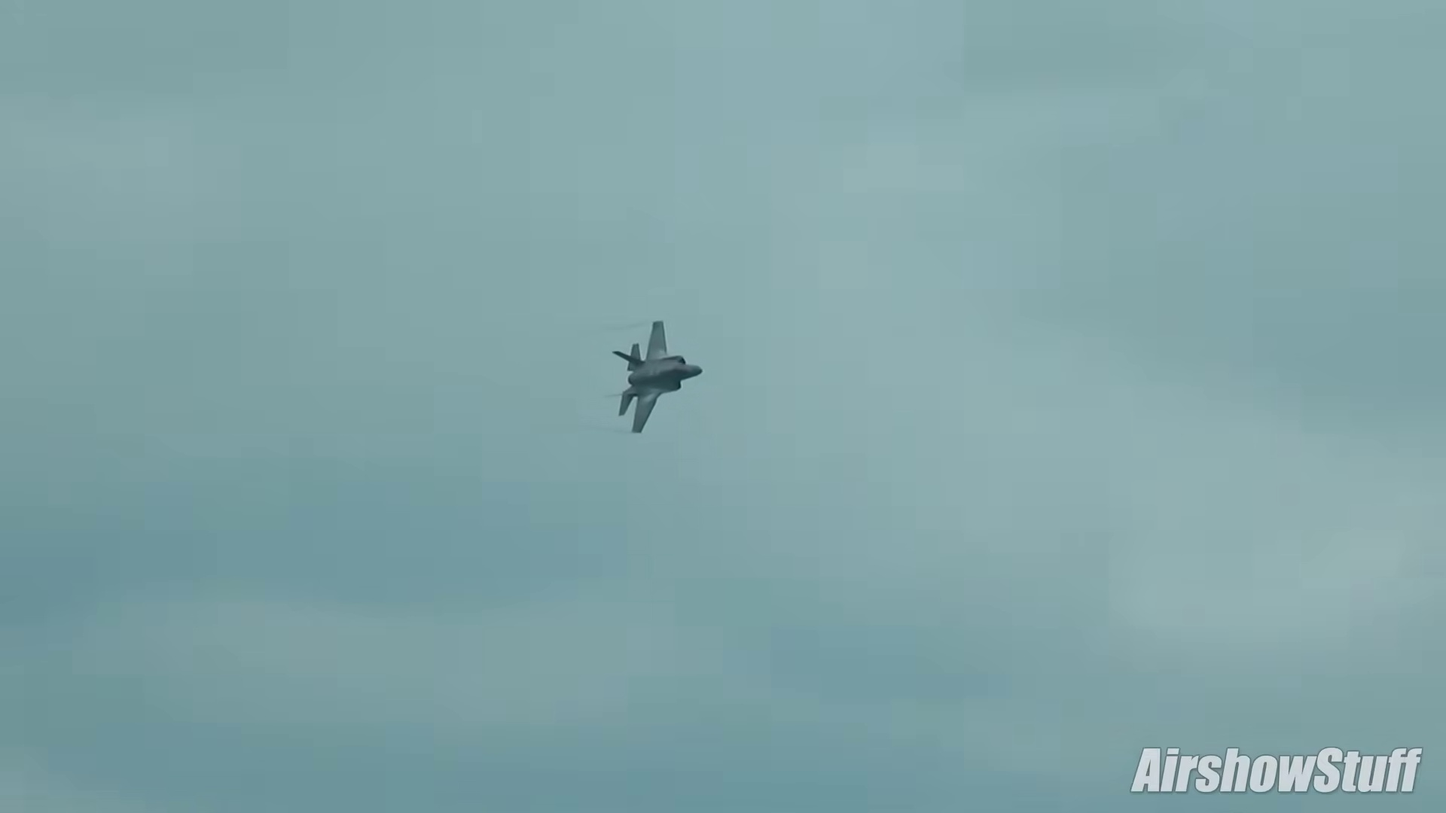F35: (611, 318, 708, 438)
